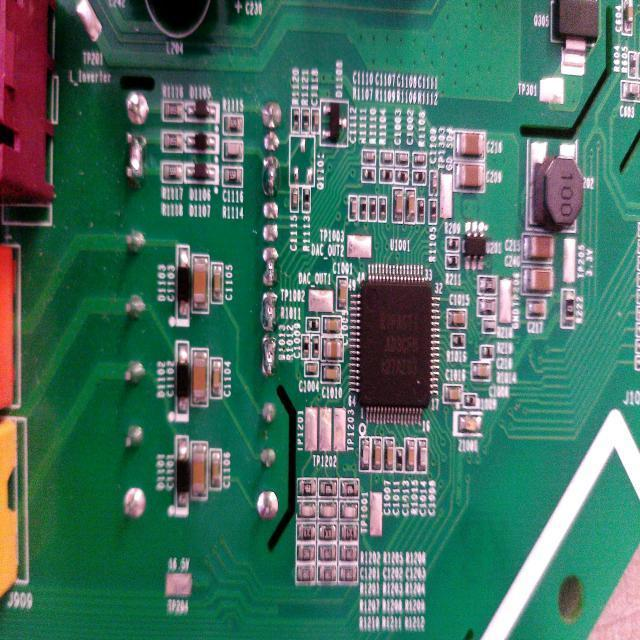Soldering shorted: (122, 131, 146, 186), (258, 153, 282, 201), (260, 287, 280, 332), (260, 333, 280, 378), (262, 244, 280, 292)
